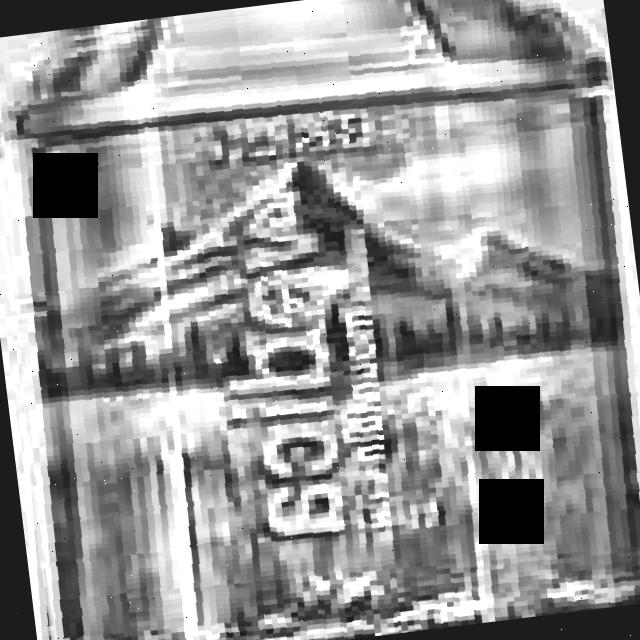bottle: (6, 0, 640, 640)
